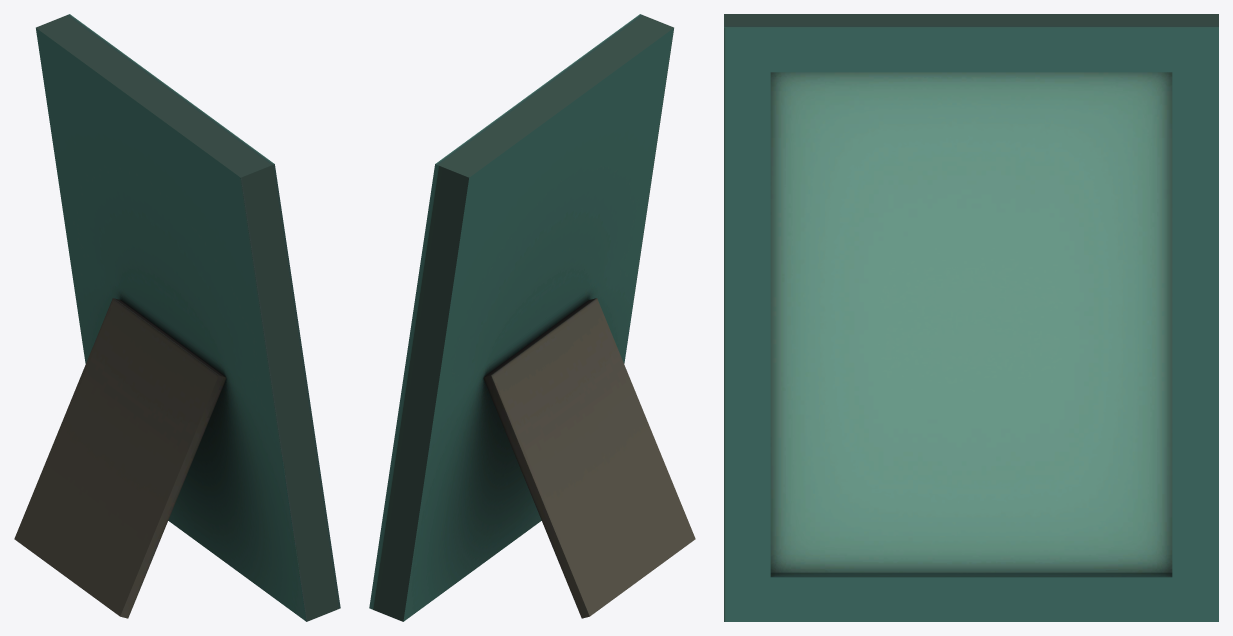
The model's file is small_frame.glb.
3 renders of one model, left to right at view 1: azimuth 30°, elevation 25°; view 2: azimuth 150°, elevation 25°; view 3: azimuth 270°, elevation 25°, orthographic. The views are drawn at different scales.
Visible parts, largest first — view 1: fc_small_frame.smd; view 2: fc_small_frame.smd; view 3: fc_small_frame.smd.
Boxes of the visible parts, x1,y1,x2,y2 form: fc_small_frame.smd: [14, 14, 340, 621]; fc_small_frame.smd: [369, 14, 695, 621]; fc_small_frame.smd: [724, 14, 1218, 621].
Size of the model in its own units: 0.1315 by 0.3434 by 0.2732.
Materials: 1 (1 with a texture image).
